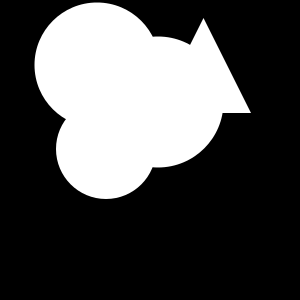rectangle: (92, 37, 223, 168), (34, 2, 160, 128), (56, 99, 156, 199)
triangle: (156, 18, 251, 113), (184, 77, 213, 106)
